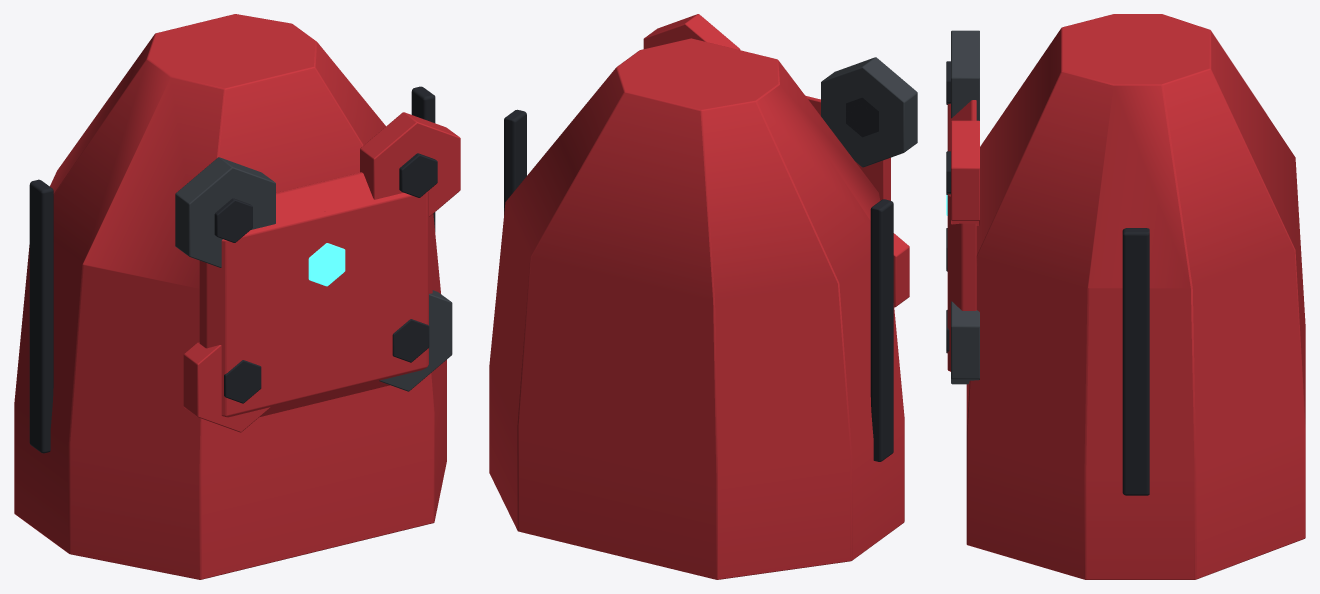
Rendered from QuadBodyBack_Set10_Aegis.fbx.
The picture shows the model from 3 angles, left to right: view 1: azimuth 30°, elevation 25°; view 2: azimuth 150°, elevation 25°; view 3: azimuth 270°, elevation 25°; orthographic projection. The views are drawn at different scales.
Visible parts, largest first — view 1: QuadBodyBack_Set10_Aegis; view 2: QuadBodyBack_Set10_Aegis; view 3: QuadBodyBack_Set10_Aegis.
Part boxes in pixels (x1,y1,x2,y2): QuadBodyBack_Set10_Aegis: [14, 14, 460, 579]; QuadBodyBack_Set10_Aegis: [489, 14, 917, 579]; QuadBodyBack_Set10_Aegis: [946, 14, 1305, 579].
Size of the model in its own units: 0.94 by 1 by 0.742.
